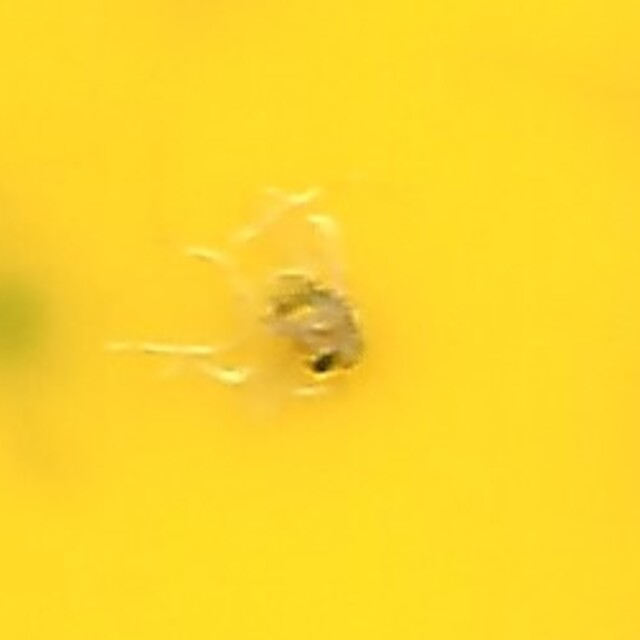Nematocera: (254, 256, 386, 384)
